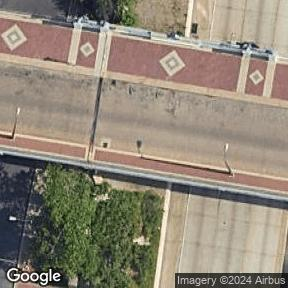vegetation: (31, 163, 165, 288), (116, 0, 138, 26), (57, 0, 84, 14)
